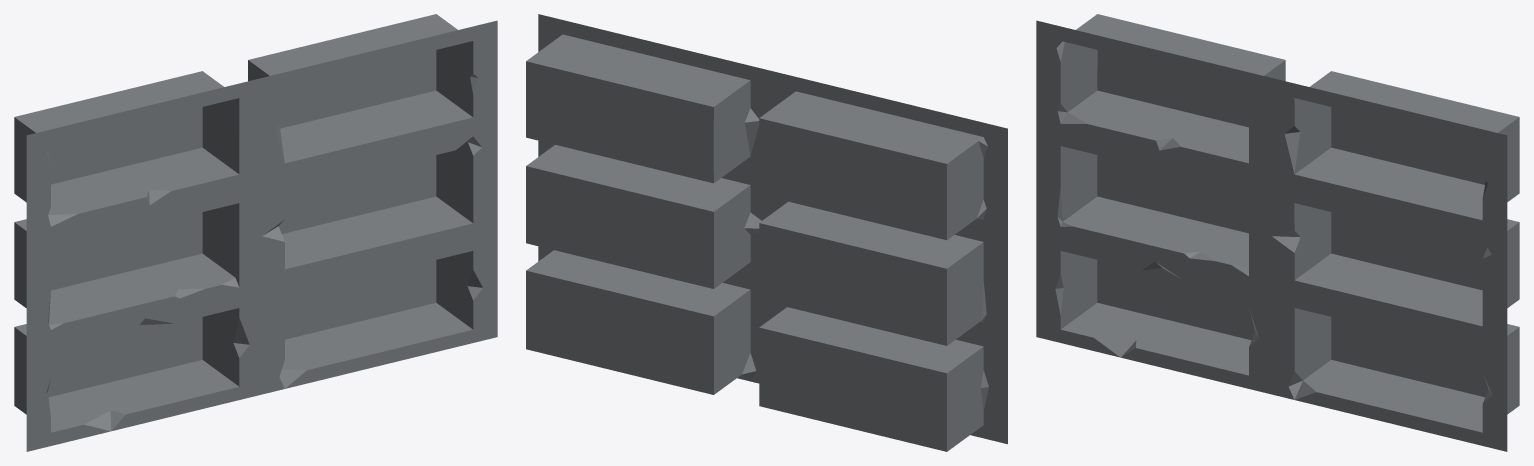
The model's file is Gabarit_B.FBX.
3 views of the same model, side by side, from view 1: azimuth 30°, elevation 25°; view 2: azimuth 150°, elevation 25°; view 3: azimuth 330°, elevation 25° (orthographic).
Visible parts, largest first — view 1: Gabarit_B; view 2: Gabarit_B; view 3: Gabarit_B.
Part boxes in pixels (x1,y1,x2,y2): Gabarit_B: (14, 14, 497, 451); Gabarit_B: (526, 14, 1007, 451); Gabarit_B: (1036, 14, 1519, 451).
Size of the model in its own units: 399 by 256 by 53.98.
Materials: 1 (1 with a texture image).
